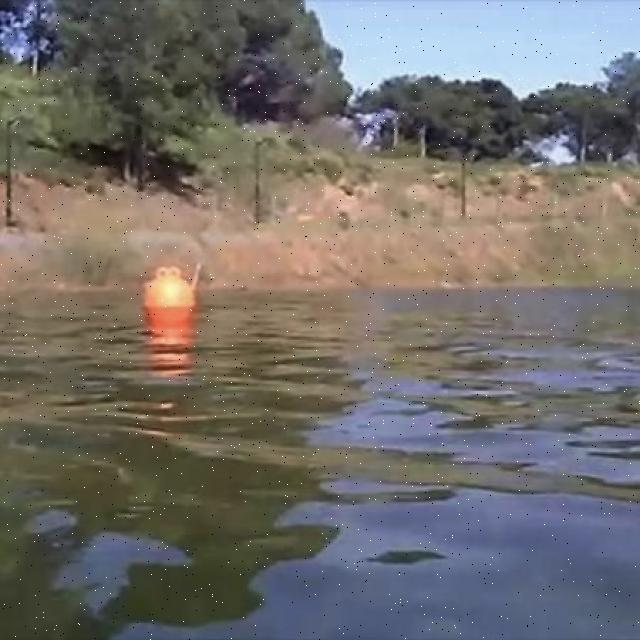buoy: (142, 270, 196, 329)
